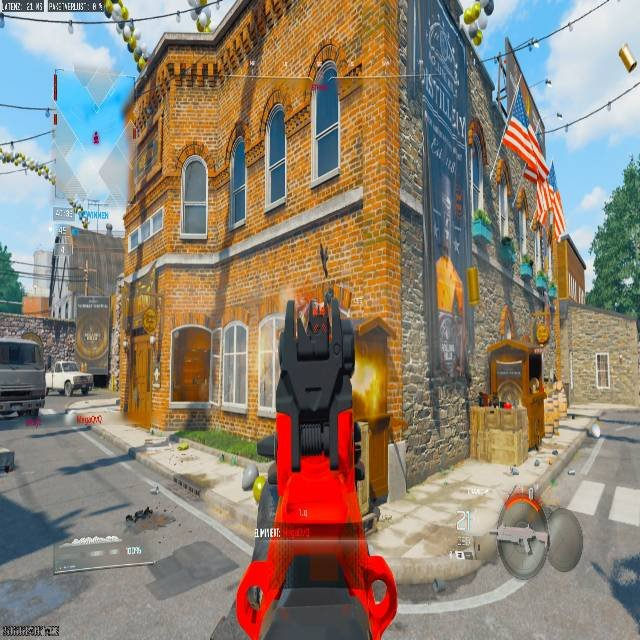player: (64, 373, 96, 399), (106, 222, 113, 233)
